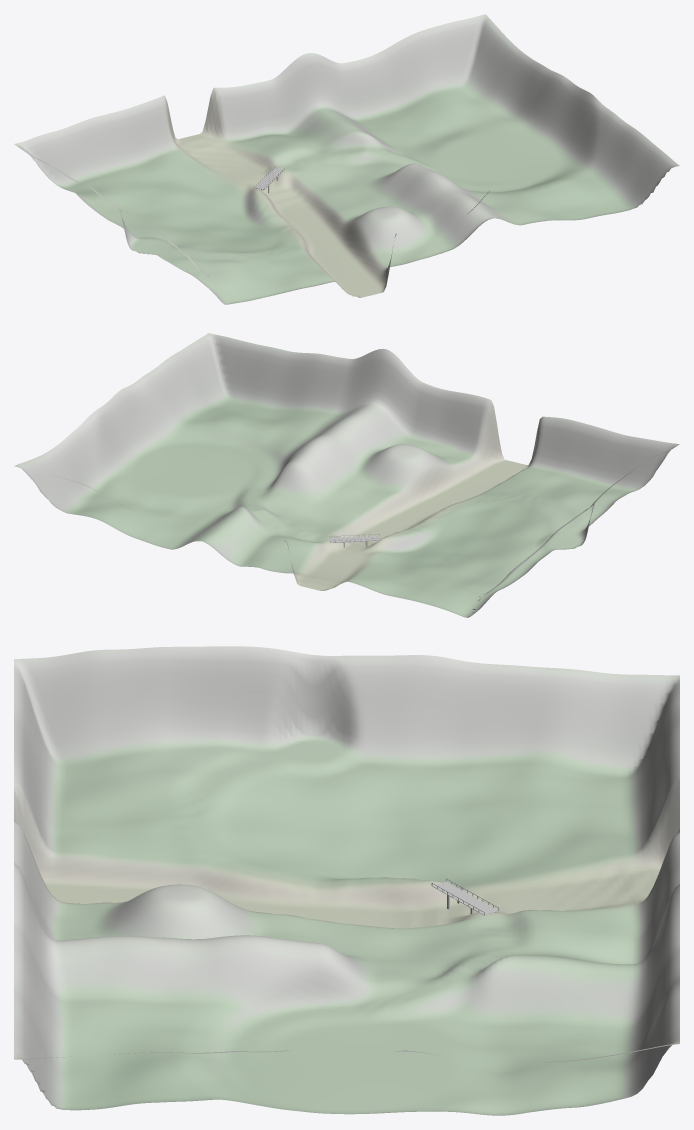
Rendered from expedition_vallon_walkable.glb.
3 views of the same model, one above another, from view 1: azimuth 30°, elevation 25°; view 2: azimuth 150°, elevation 25°; view 3: azimuth 270°, elevation 25° (orthographic). The views are drawn at different scales.
Parts seen in each view (by area): view 1: vallon_walkable; view 2: vallon_walkable; view 3: vallon_walkable.
Part boxes in pixels (left/top/right/bottom): vallon_walkable: left=14, top=14, right=679, bottom=304; vallon_walkable: left=14, top=333, right=679, bottom=617; vallon_walkable: left=14, top=646, right=679, bottom=1115.
Bounding box in the file's own units: 280 × 46.47 × 200.
